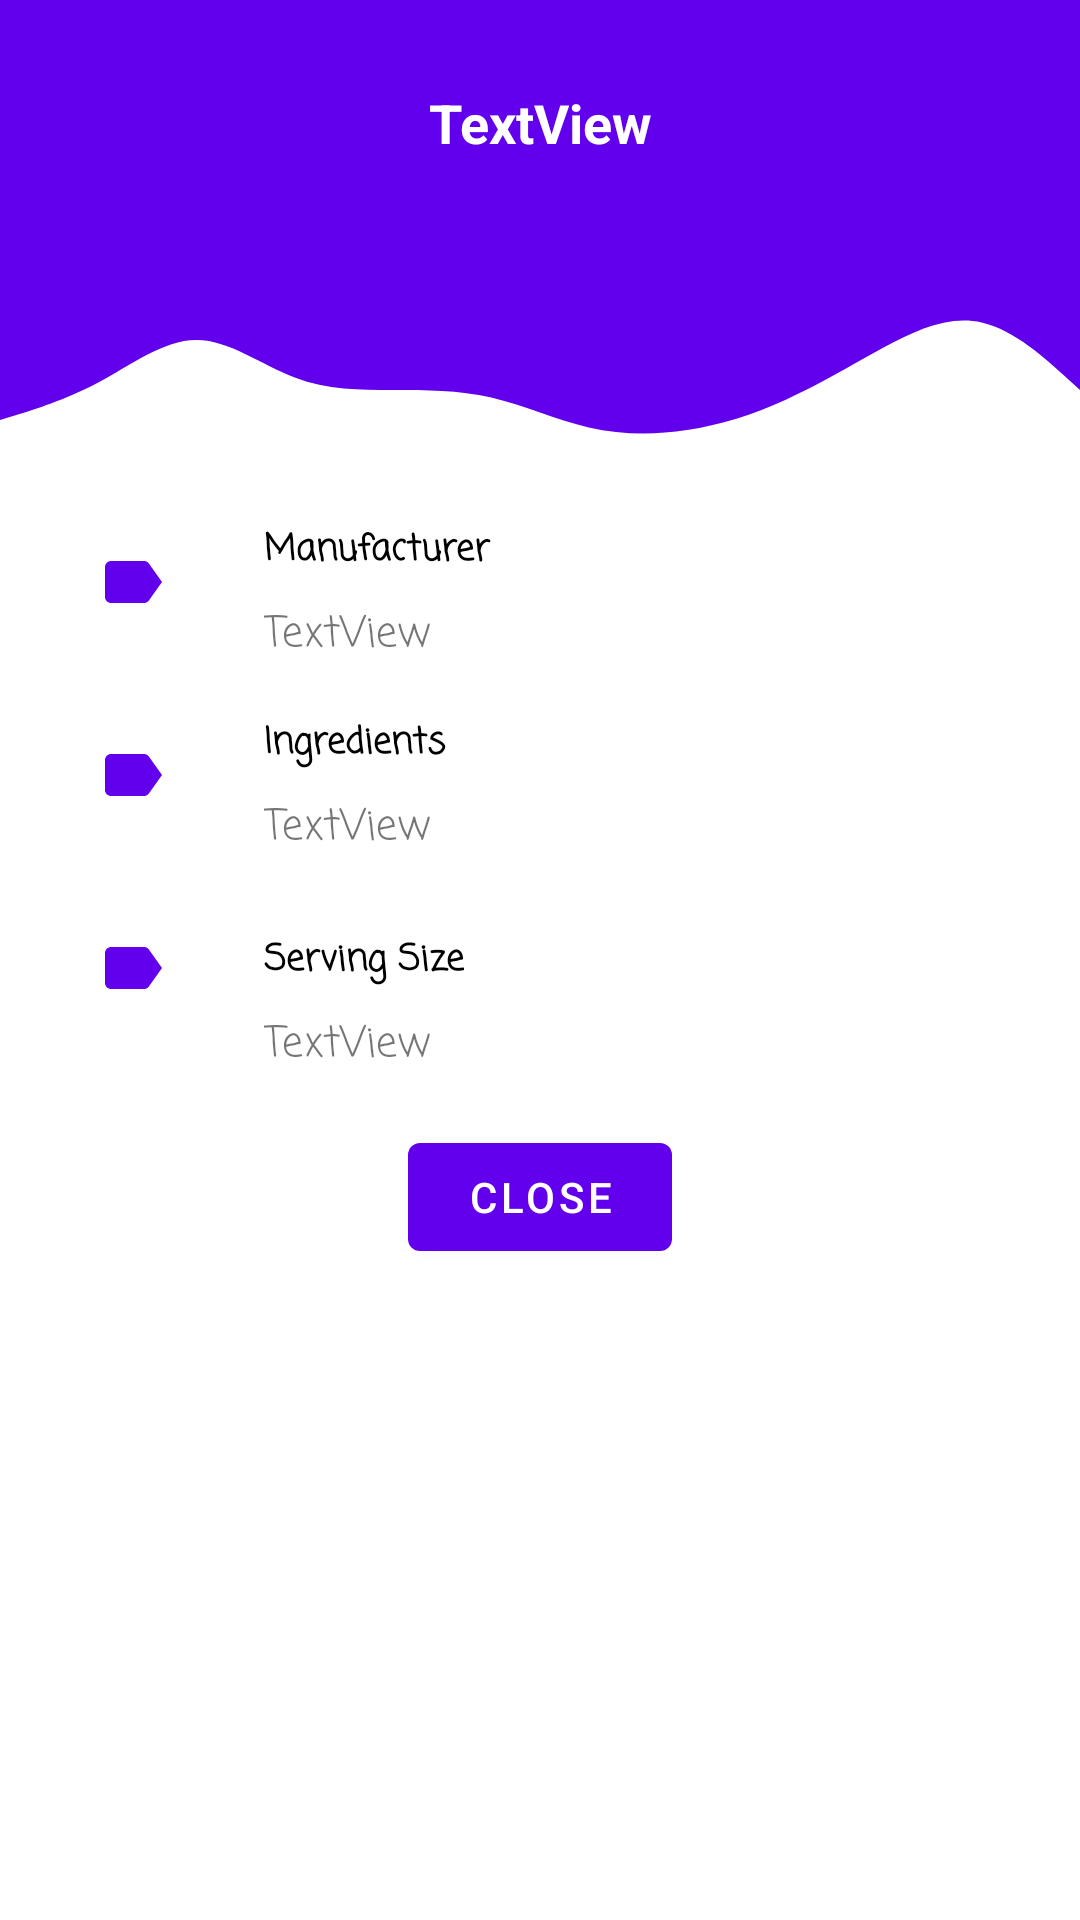

Icons on this 1080×1920 Android screen, each with the point to tap as point (x, y):
label: point (133, 582), point (133, 775), point (133, 968)
